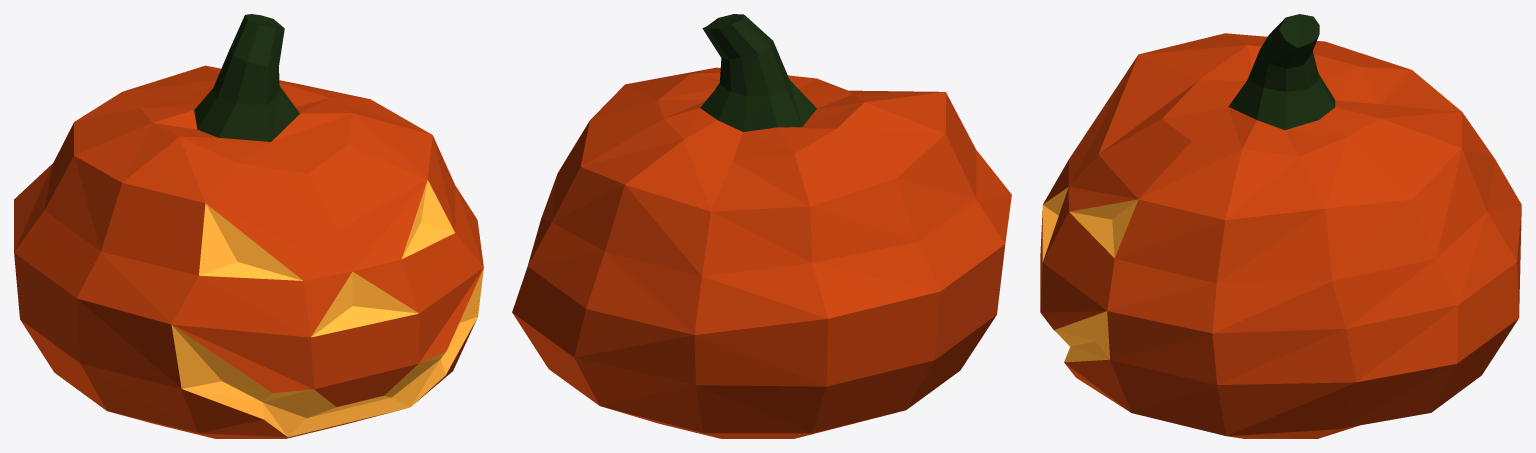
File: LPpumpkin.FBX
3 renders of one model, left to right at view 1: azimuth 30°, elevation 25°; view 2: azimuth 150°, elevation 25°; view 3: azimuth 270°, elevation 25°, orthographic. The views are drawn at different scales.
Parts seen in each view (by area): view 1: LPpumpkin; view 2: LPpumpkin; view 3: LPpumpkin.
Part boxes in pixels (x1,y1,x2,y2): LPpumpkin: (14,14,483,438); LPpumpkin: (512,14,1011,438); LPpumpkin: (1040,14,1521,438).
Size of the model in its own units: 1089 by 920 by 1084.
